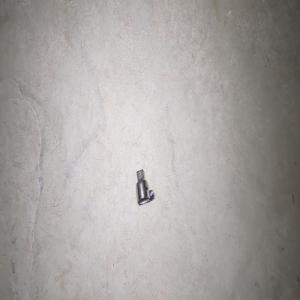MetalPart: (135, 168, 154, 205)
